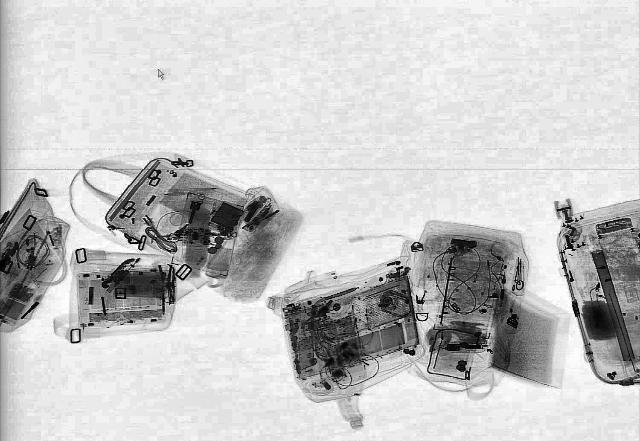Knife: (97, 255, 137, 288)
